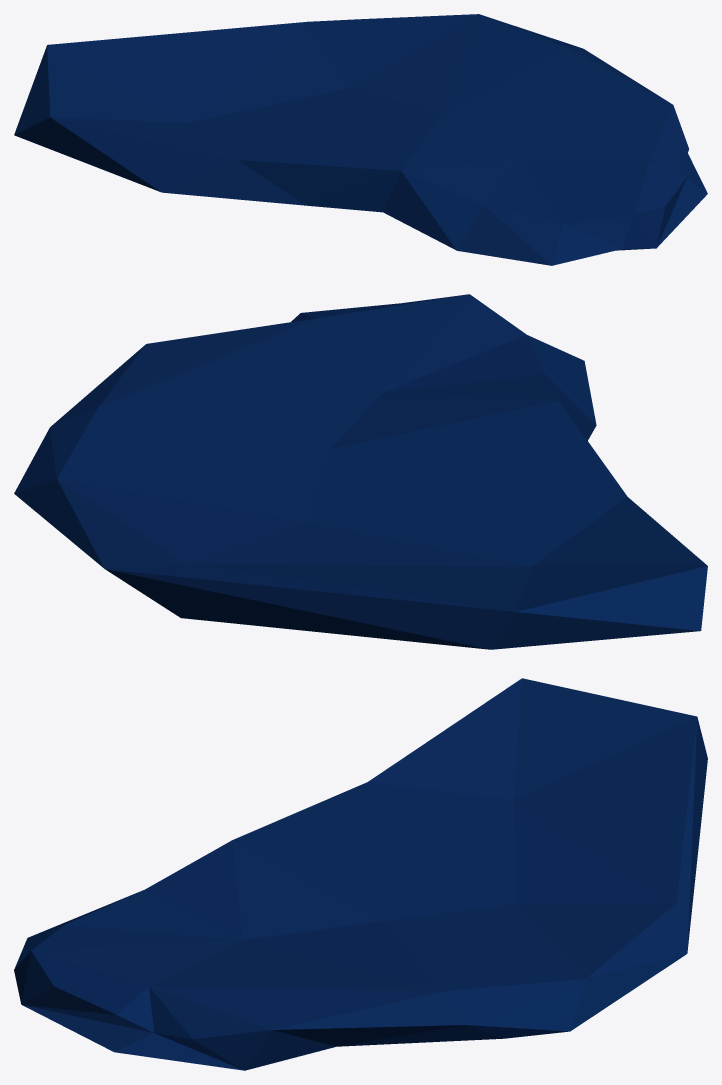
Rendered from Cave_stone_23.glb.
3 renders of one model, top to bottom at view 1: azimuth 30°, elevation 25°; view 2: azimuth 150°, elevation 25°; view 3: azimuth 270°, elevation 25°, orthographic. The views are drawn at different scales.
Parts seen in each view (by area): view 1: Cave_stone_26; view 2: Cave_stone_26; view 3: Cave_stone_26.
Boxes of the visible parts, <box> form: Cave_stone_26: <box>14,14,707,265</box>; Cave_stone_26: <box>14,294,707,649</box>; Cave_stone_26: <box>14,678,707,1070</box>.
Size of the model in its own units: 2.5 by 0.4177 by 2.33.
